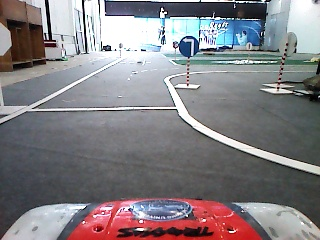turn_left: (178, 36, 200, 56)
